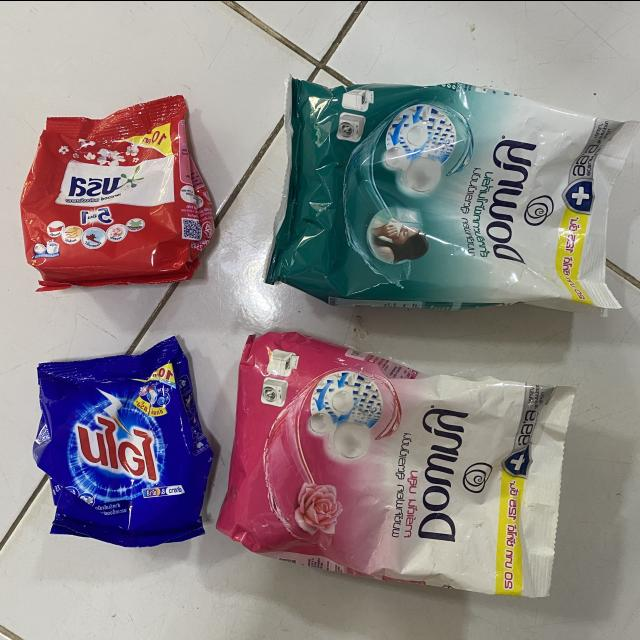plastik: (217, 331, 575, 596), (265, 77, 640, 315), (20, 95, 215, 289), (33, 336, 213, 546)
